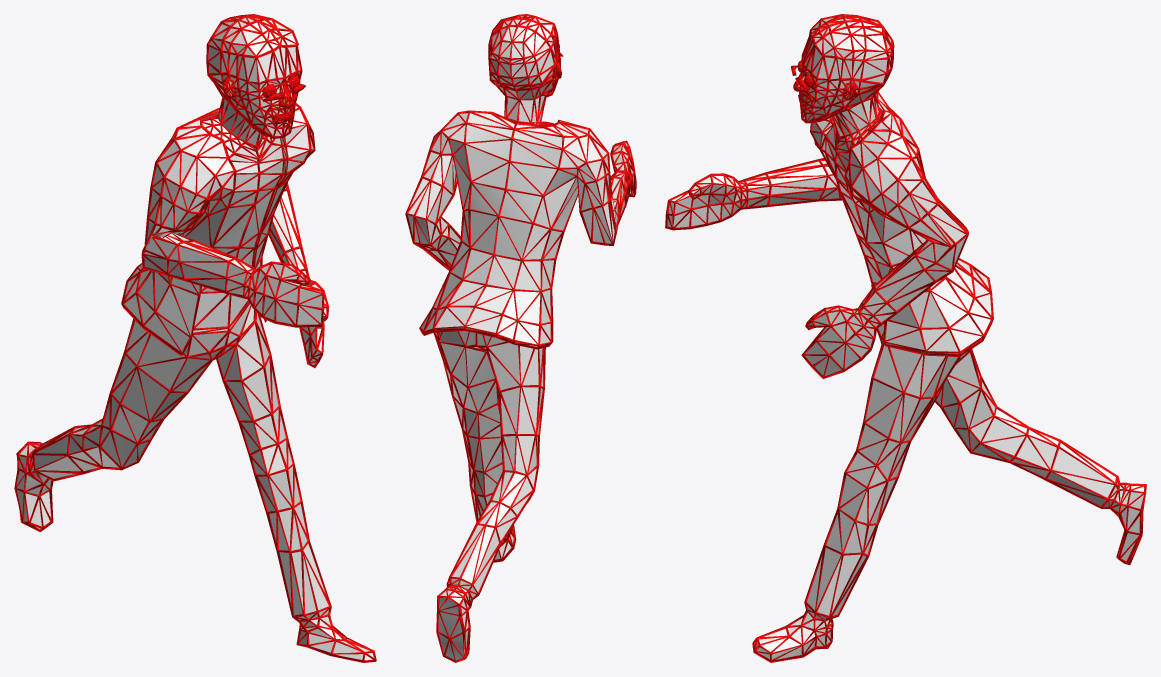
Rendered from elegantRun_000015.obj.
3 renders of one model, left to right at view 1: azimuth 30°, elevation 25°; view 2: azimuth 150°, elevation 25°; view 3: azimuth 270°, elevation 25°, orthographic. The views are drawn at different scales.
Visible parts, largest first — view 1: BaseHuman_Cylinder.002; view 2: BaseHuman_Cylinder.002; view 3: BaseHuman_Cylinder.002.
Part boxes in pixels (x1,y1,x2,y2): BaseHuman_Cylinder.002: [14, 14, 376, 662]; BaseHuman_Cylinder.002: [405, 14, 636, 662]; BaseHuman_Cylinder.002: [665, 14, 1146, 662].
Size of the model in its own units: 1.48 by 4.72 by 3.4.
